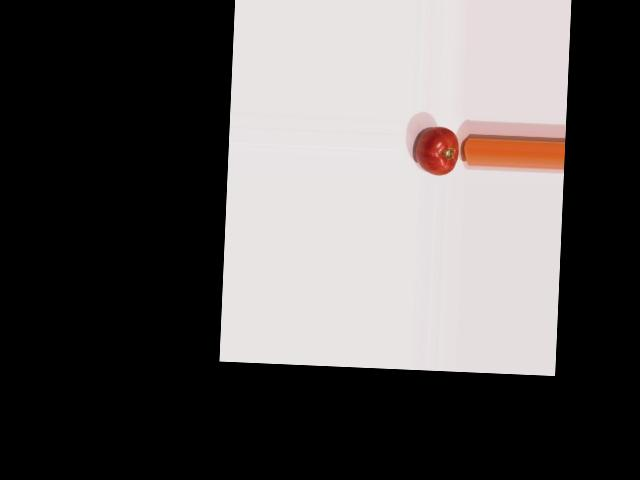tomato: (415, 126, 459, 176)
